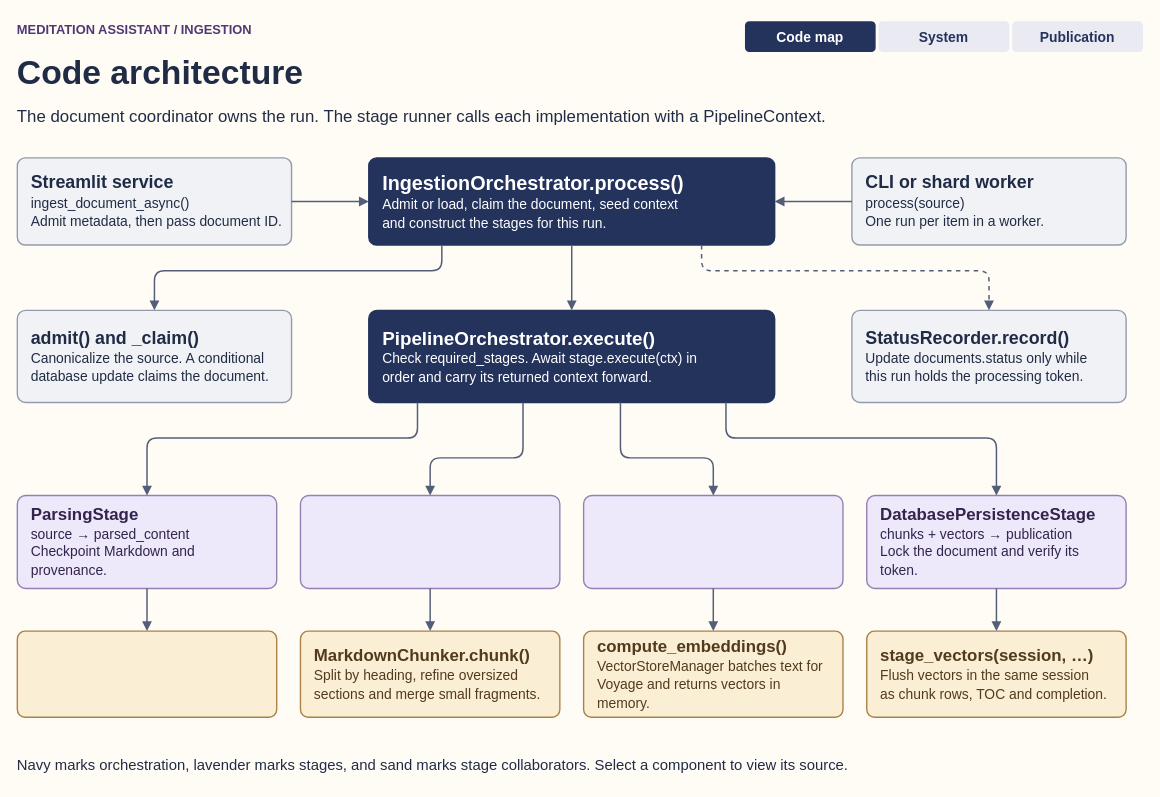
This 1160x797 diagram has some shape labels left out. Here are the shapes that lost their labels. From the top down, the centre of each, then its label:
At [429,541]: "ChunkingStage parsed_content → chunks Keep the order and section paths.".
At [712,541]: "EmbeddingStage chunks → chunks + vectors Attach source fields and chunk IDs.".
At [146,673]: "ParserFactory.parse() Select a Parser by source. Return ParseResult.".
